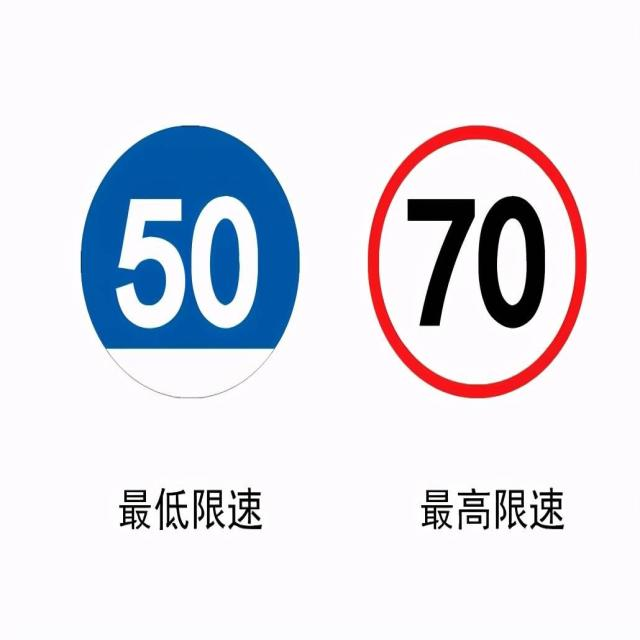speed limit 50: (78, 122, 300, 397)
speed limit 70: (366, 124, 586, 399)
